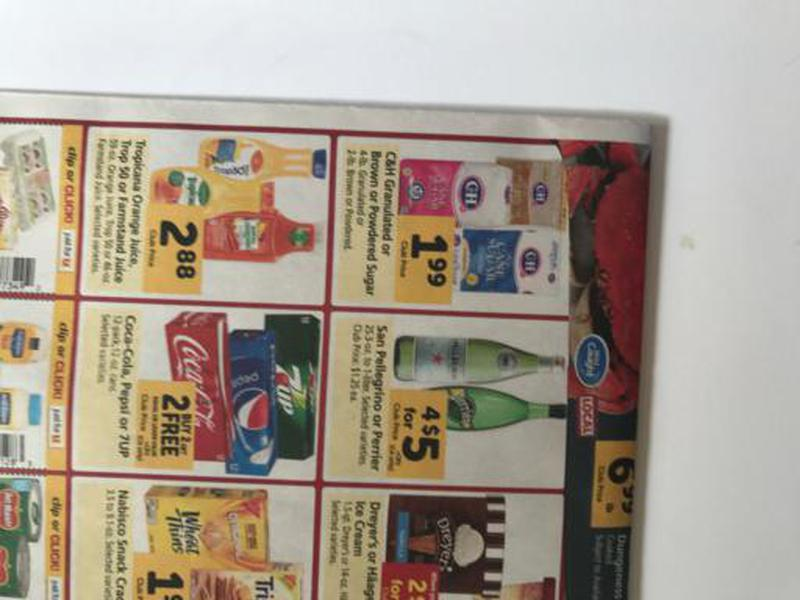paper: (1, 78, 661, 600)
